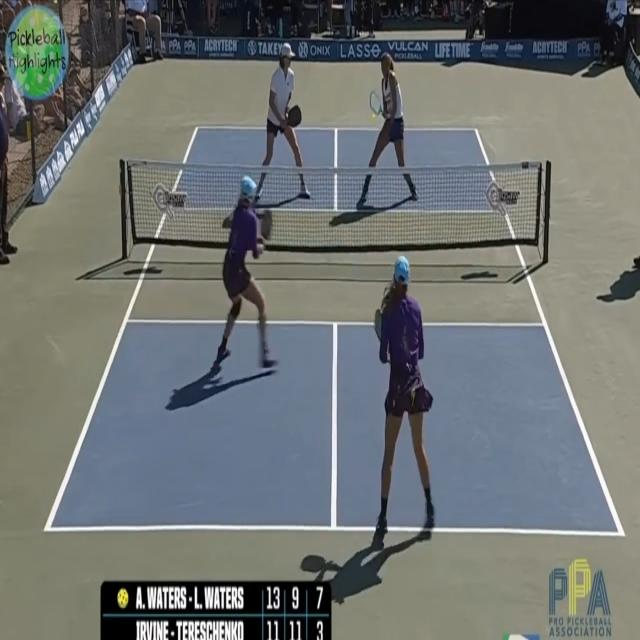Court: (46, 130, 621, 535)
